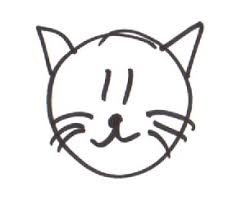cat: (21, 3, 217, 189)
